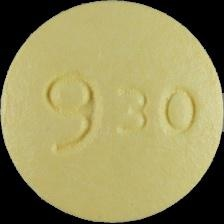57844-691: (0, 0, 224, 224)
